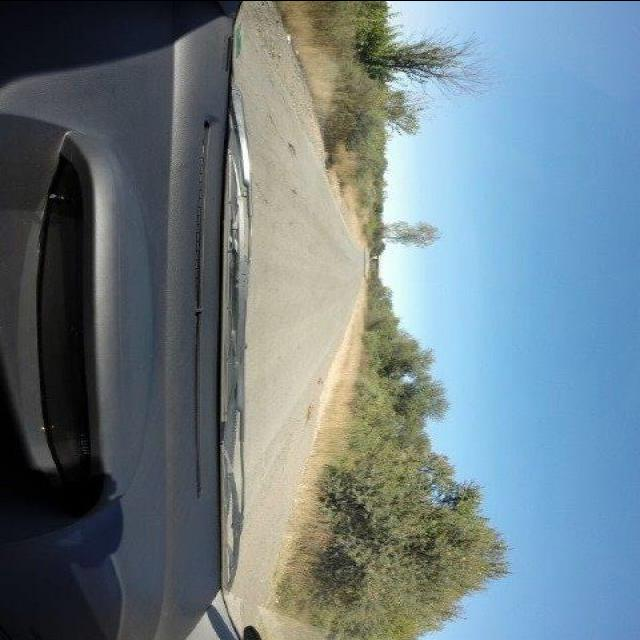lubang: (264, 106, 292, 144), (285, 138, 303, 160), (289, 182, 302, 199)
